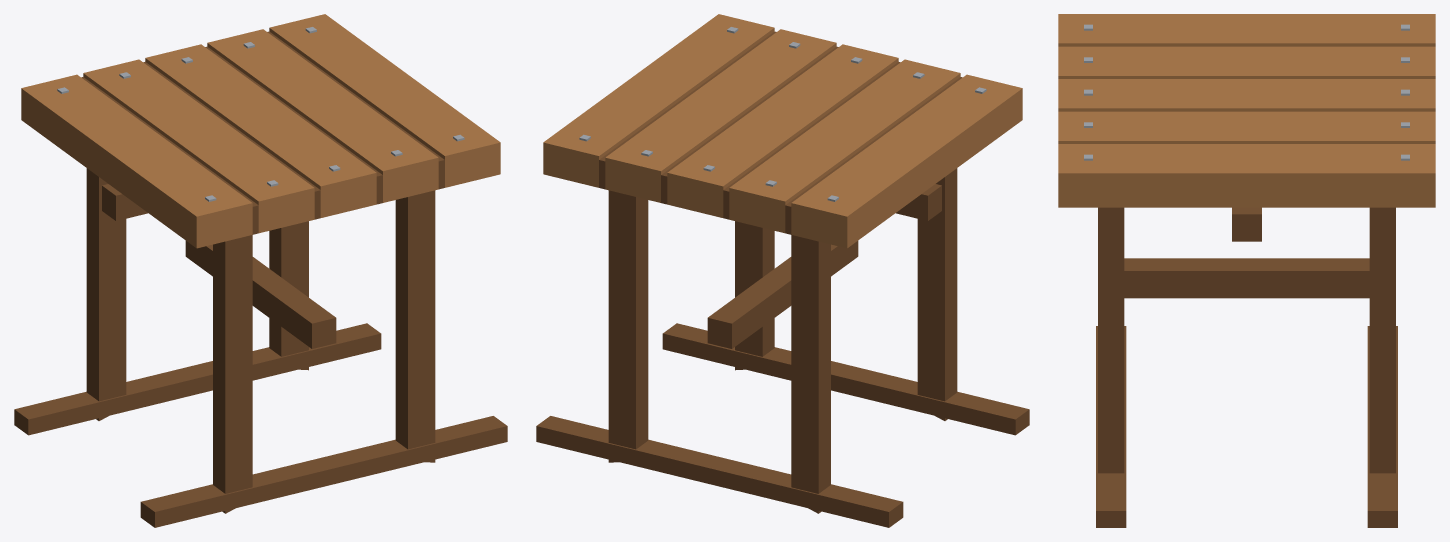
File: kit-table-mid.glb
The picture shows the model from 3 angles, left to right: view 1: azimuth 30°, elevation 25°; view 2: azimuth 150°, elevation 25°; view 3: azimuth 270°, elevation 25°; orthographic projection. The views are drawn at different scales.
Parts seen in each view (by area): view 1: table.001; view 2: table.001; view 3: table.001.
Part boxes in pixels (<box>): table.001: <box>14,14,507,527</box>; table.001: <box>536,14,1029,527</box>; table.001: <box>1058,14,1435,527</box>.
Bounding box in the file's own units: 1.16 × 1.02 × 1.
